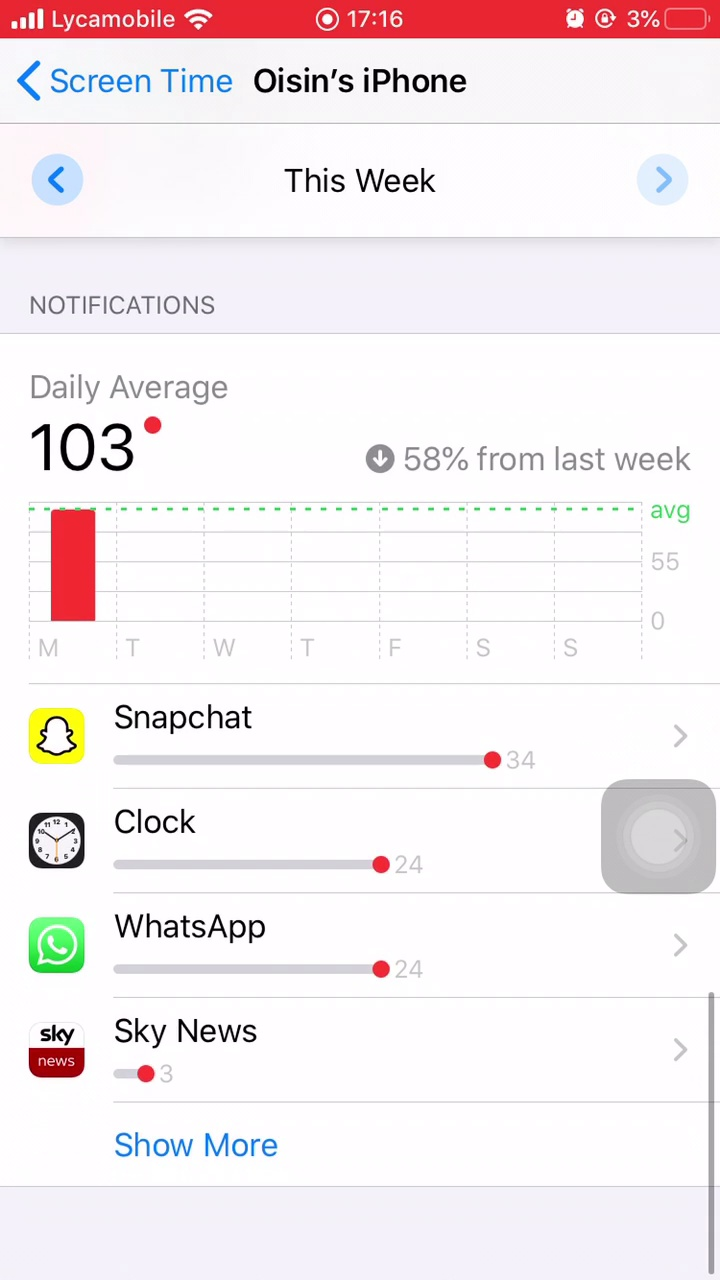not_app: (12, 686, 568, 786), (15, 789, 482, 889), (17, 897, 492, 994), (17, 996, 362, 1103)
not_over: (12, 239, 292, 485)
week: (273, 158, 460, 207)
